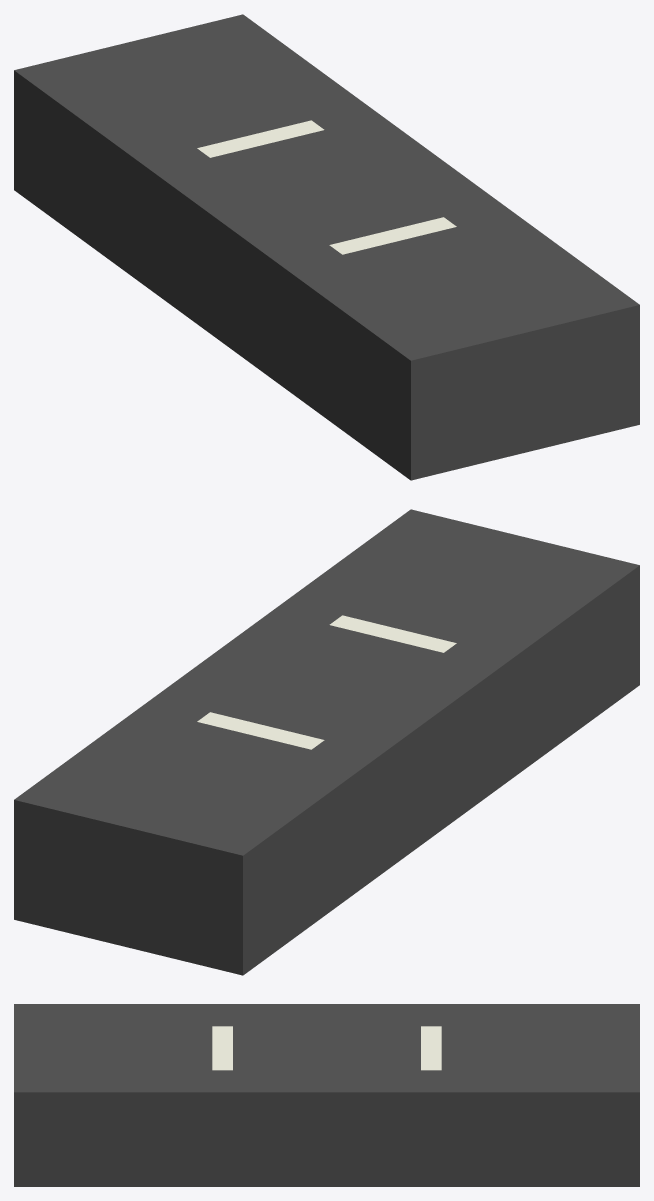
File: carrereta4.obj
3 views of the same model, one above another, from view 1: azimuth 30°, elevation 25°; view 2: azimuth 150°, elevation 25°; view 3: azimuth 270°, elevation 25° (orthographic). The views are drawn at different scales.
Size of the model in its own units: 40 by 20 by 120.
Materials: 1 (1 with a texture image).
